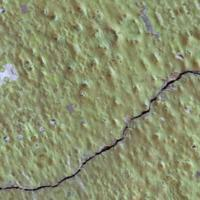crack: (2, 62, 199, 198)
